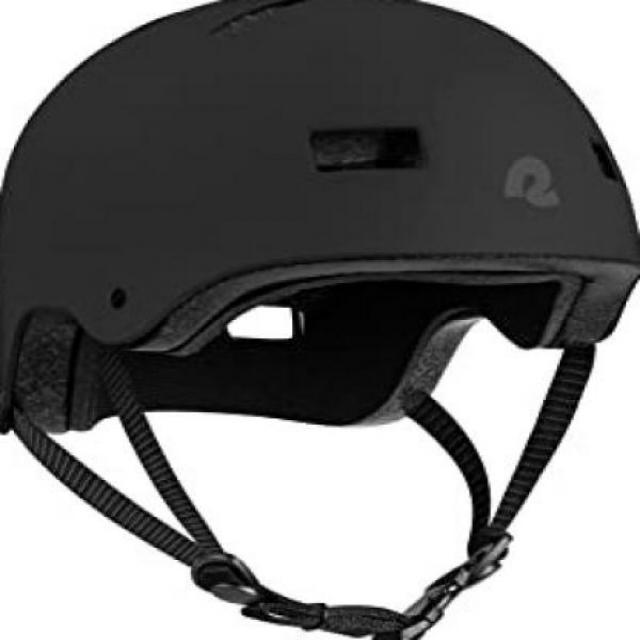Helmet: (0, 0, 636, 497)
